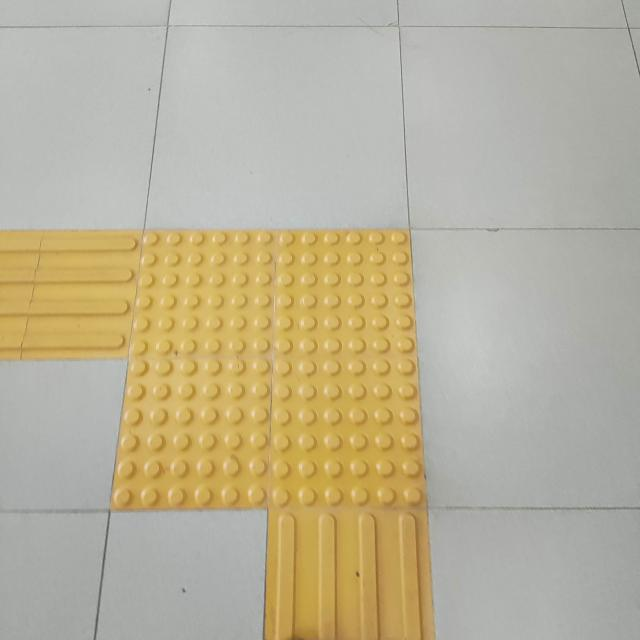kiri: (0, 155, 474, 588)
